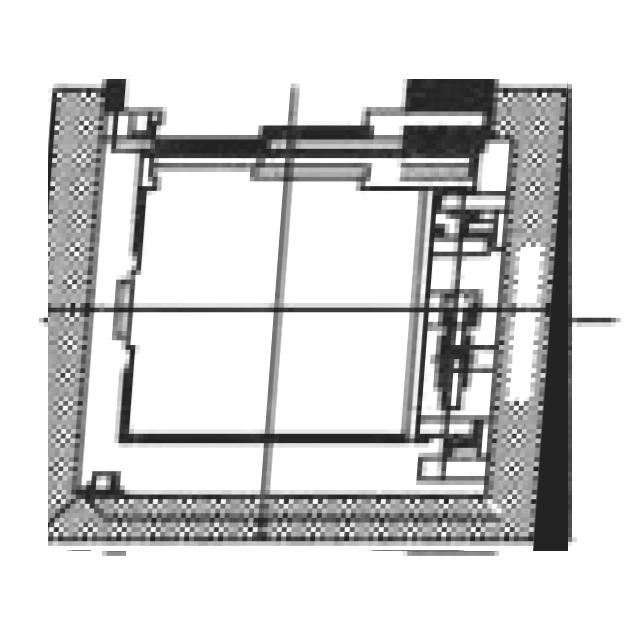lift: (48, 80, 568, 552)
